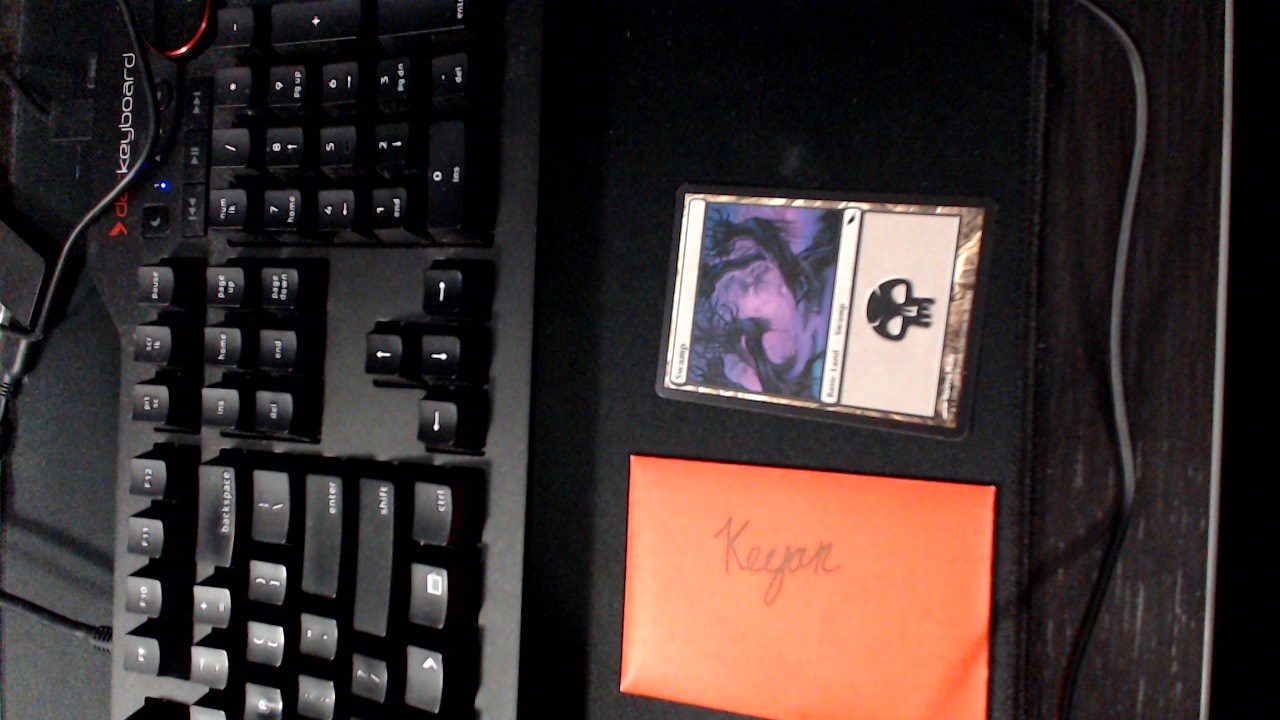MTG Card: (647, 182, 1005, 446)
